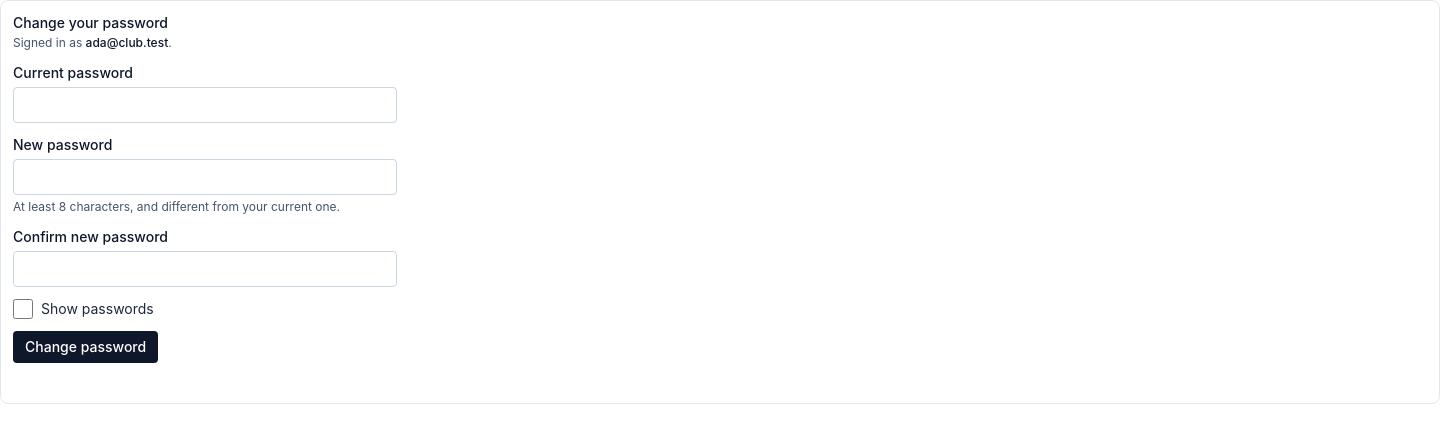
Test: changing your password › catches a missing current password before asking Supabase
The image size is (1440, 445).
In the password field labelled "New password": {"x": 205, "y": 177} [13,159,397,195], type "new-pass-12"
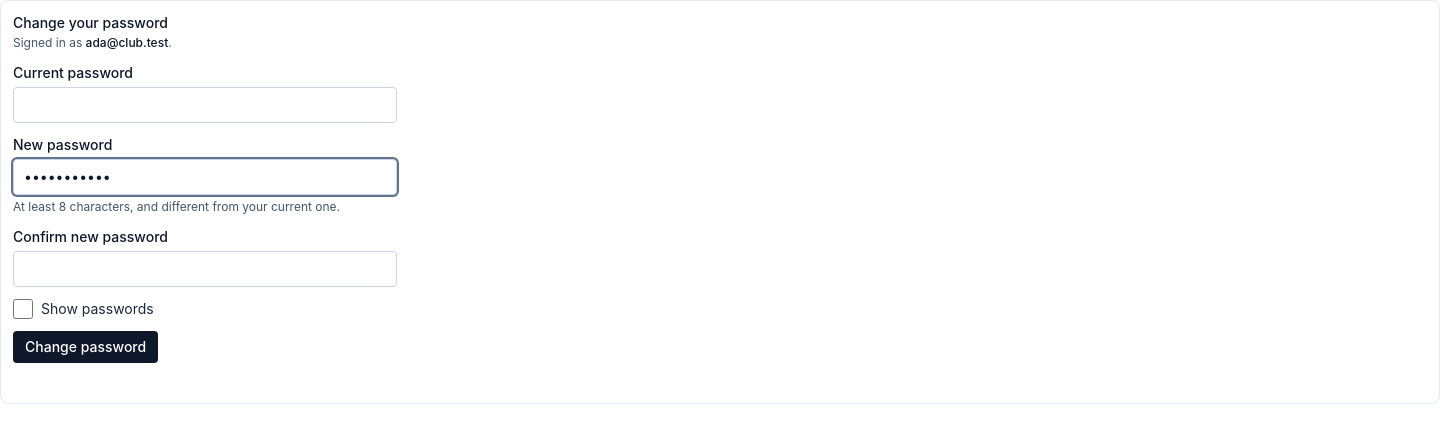
In the password field labelled "Confirm new password": {"x": 205, "y": 269} [13,251,397,287], type "new-pass-12"
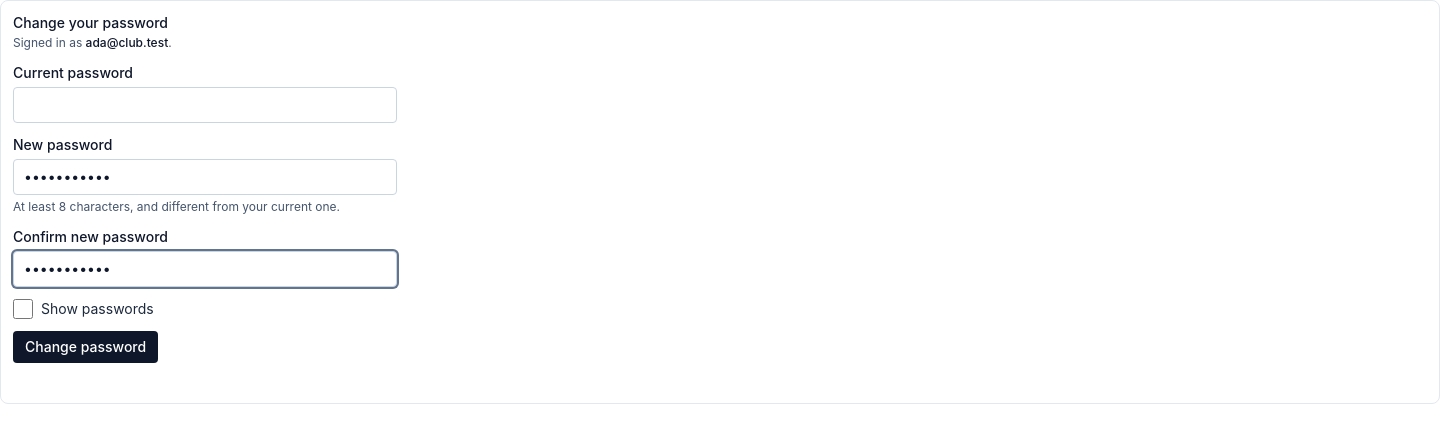
Click the button "Change password": {"x": 86, "y": 347} [13,331,158,363]
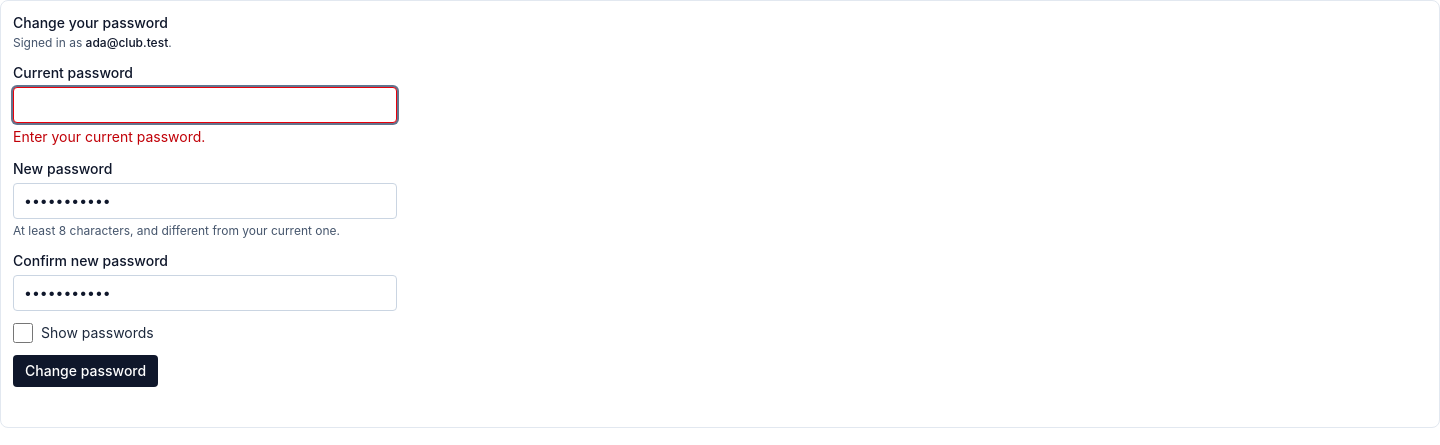
Result: the text "Enter your current password." is shown at [13,128,205,145]
